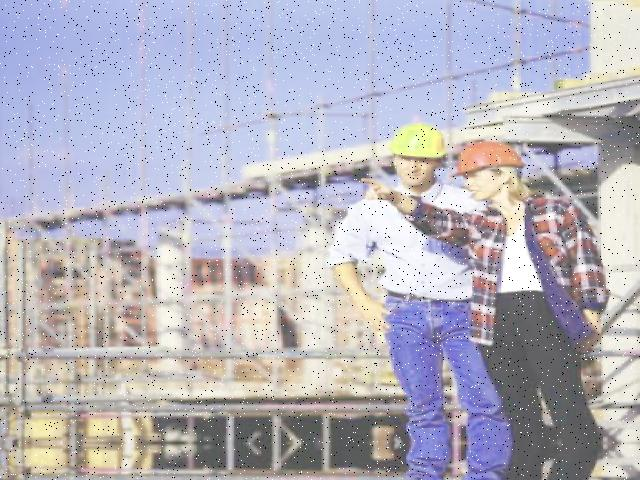Helmet: (446, 135, 527, 182), (382, 117, 448, 165)
